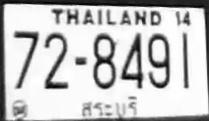1: (181, 32, 189, 88)
2: (42, 31, 67, 88)
4: (120, 32, 143, 88)
7: (12, 29, 38, 88)
8: (92, 32, 116, 88)
9: (147, 32, 170, 88)
SRI: (78, 95, 141, 121)
